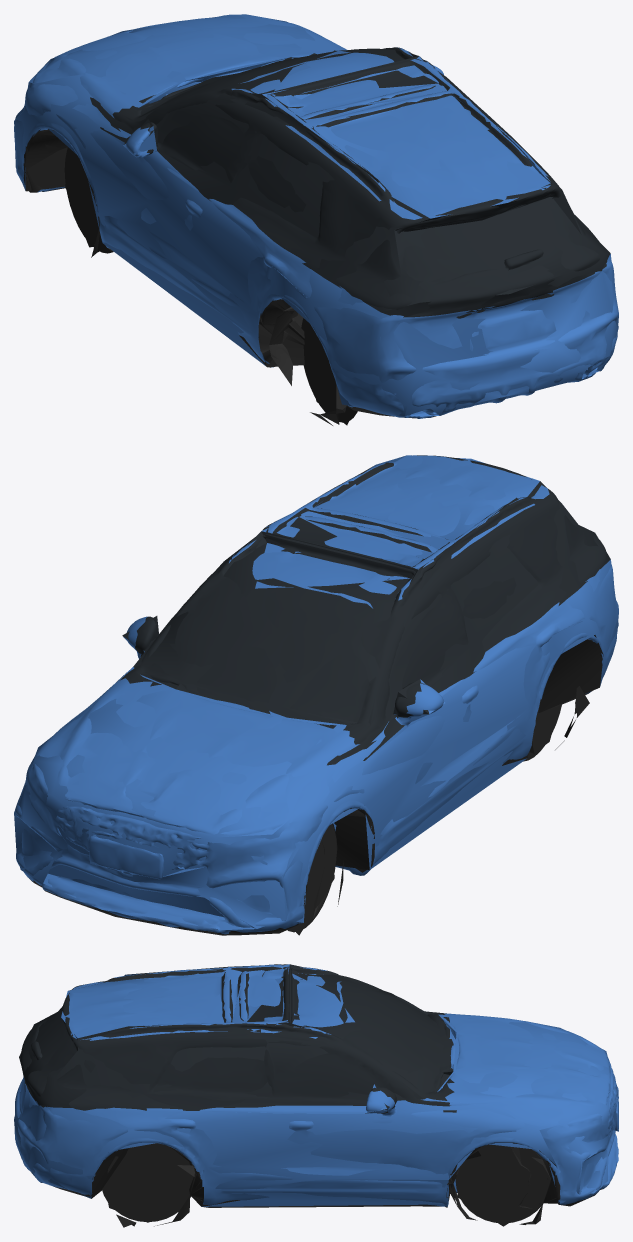
File: genesis-gv70.glb
3 renders of one model, top to bottom at view 1: azimuth 30°, elevation 25°; view 2: azimuth 150°, elevation 25°; view 3: azimuth 270°, elevation 25°, orthographic. The views are drawn at different scales.
Visible parts, largest first — view 1: body, far; view 2: body, far; view 3: body, far.
Part boxes in pixels (x1,y1,x2,y2): body: (14, 14, 618, 425); far: (14, 14, 618, 425); body: (15, 455, 618, 935); far: (14, 455, 618, 935); body: (14, 964, 618, 1226); far: (14, 964, 618, 1227).
Size of the model in its own units: 2.16 by 1.69 by 4.77.
